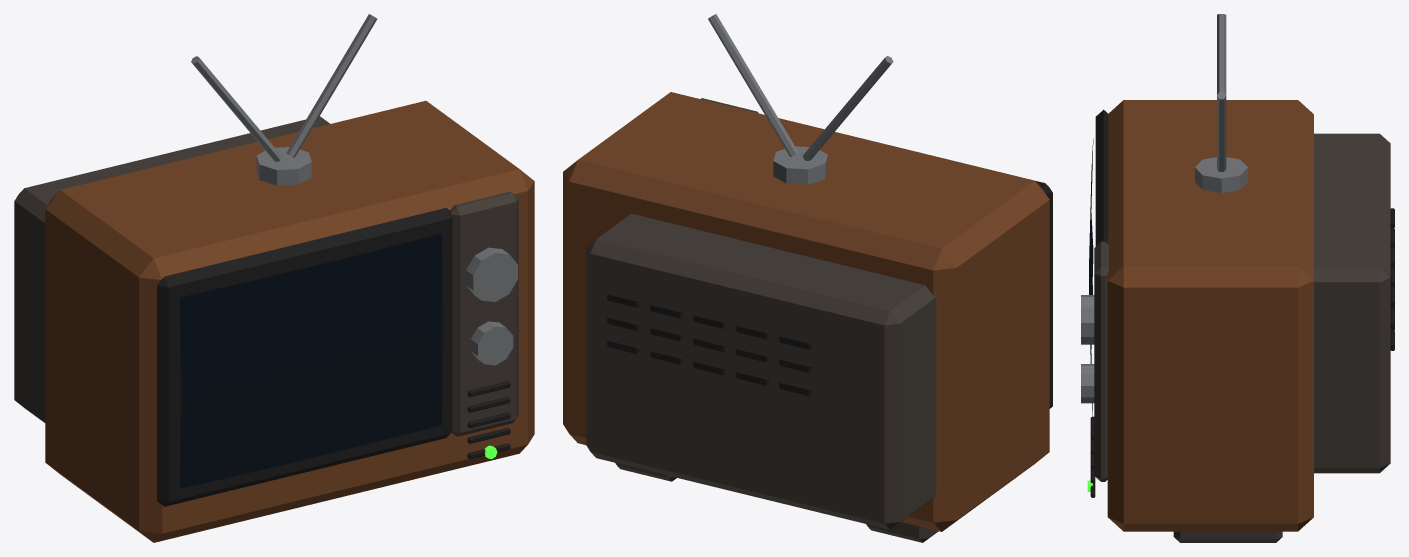
Rendered from minedoom_lowpoly_crt_tv.glb.
3 renders of one model, left to right at view 1: azimuth 30°, elevation 25°; view 2: azimuth 150°, elevation 25°; view 3: azimuth 270°, elevation 25°, orthographic. The views are drawn at different scales.
Parts seen in each view (by area): view 1: TV_Cabinet, Screen_Active, TV_Screen_Bezel, TV_ControlPanel, TV_Rear_Casing, TV_Knob_Channel, TV_Antenna_Right, TV_Antenna_Base, TV_Knob_Volume, TV_Antenna_Left; view 2: TV_Cabinet, TV_Rear_Casing, TV_Antenna_Right, TV_Antenna_Base, TV_Antenna_Left, TV_Screen_Bezel, TV_Foot_L; view 3: TV_Cabinet, TV_Rear_Casing, TV_ControlPanel, TV_Screen_Bezel, TV_Antenna_Base, TV_Foot_R, TV_Antenna_Left, TV_Antenna_Right, TV_Knob_Channel, TV_Knob_Volume, Screen_Active.
Boxes of the visible parts, left/top/right/bottom form: TV_Cabinet: left=45, top=100, right=534, bottom=542; Screen_Active: left=180, top=233, right=442, bottom=488; TV_Screen_Bezel: left=157, top=208, right=452, bottom=506; TV_ControlPanel: left=450, top=191, right=518, bottom=436; TV_Rear_Casing: left=14, top=116, right=329, bottom=422; TV_Knob_Channel: left=466, top=247, right=517, bottom=301; TV_Antenna_Right: left=286, top=14, right=377, bottom=157; TV_Antenna_Base: left=256, top=147, right=311, bottom=185; TV_Knob_Volume: left=470, top=321, right=513, bottom=365; TV_Antenna_Left: left=191, top=56, right=282, bottom=161; TV_Cabinet: left=563, top=92, right=1049, bottom=531; TV_Rear_Casing: left=586, top=213, right=936, bottom=529; TV_Antenna_Right: left=708, top=14, right=798, bottom=156; TV_Antenna_Base: left=773, top=146, right=827, bottom=184; TV_Antenna_Left: left=803, top=56, right=893, bottom=160; TV_Screen_Bezel: left=778, top=118, right=1052, bottom=408; TV_Foot_L: left=866, top=522, right=938, bottom=542; TV_Cabinet: left=1107, top=100, right=1313, bottom=531; TV_Rear_Casing: left=1314, top=133, right=1390, bottom=473; TV_ControlPanel: left=1094, top=242, right=1108, bottom=481; TV_Screen_Bezel: left=1095, top=109, right=1108, bottom=246; TV_Antenna_Base: left=1195, top=157, right=1247, bottom=192; TV_Foot_R: left=1173, top=531, right=1282, bottom=542; TV_Antenna_Left: left=1217, top=14, right=1226, bottom=95; TV_Antenna_Right: left=1217, top=92, right=1226, bottom=171; TV_Knob_Channel: left=1081, top=295, right=1094, bottom=344; TV_Knob_Volume: left=1081, top=364, right=1094, bottom=403; Screen_Active: left=1089, top=139, right=1093, bottom=416.
Size of the model in its own units: 3.2 by 3.49 by 2.36.
Materials: 6 (1 with a texture image).
